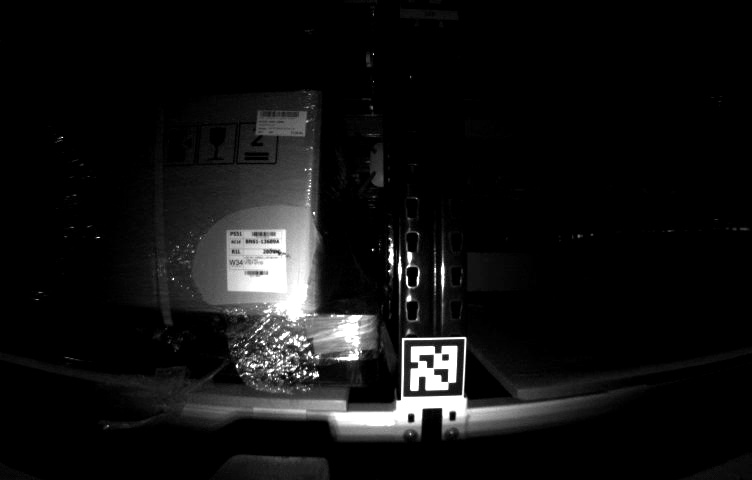True Barcode: (225, 230, 288, 294)
